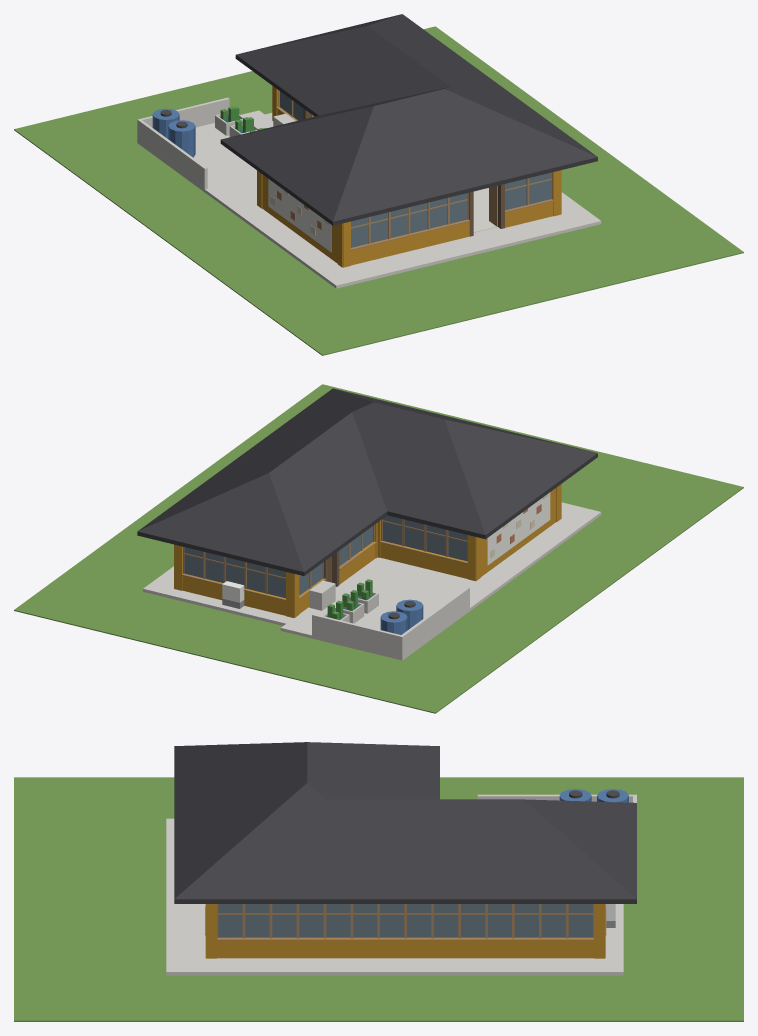
File: lab_humedales.glb
3 views of the same model, one above another, from view 1: azimuth 30°, elevation 25°; view 2: azimuth 150°, elevation 25°; view 3: azimuth 270°, elevation 25° (orthographic). The views are drawn at different scales.
Parts seen in each view (by area): view 1: Laboratorio de humedales; view 2: Laboratorio de humedales; view 3: Laboratorio de humedales.
Boxes of the visible parts, box(x1,y1,x2,y2) form: Laboratorio de humedales: box(14, 14, 743, 355); Laboratorio de humedales: box(14, 384, 743, 713); Laboratorio de humedales: box(14, 742, 743, 1021).
Bounding box in the file's own units: 21.55 × 5.69 × 27.31.
